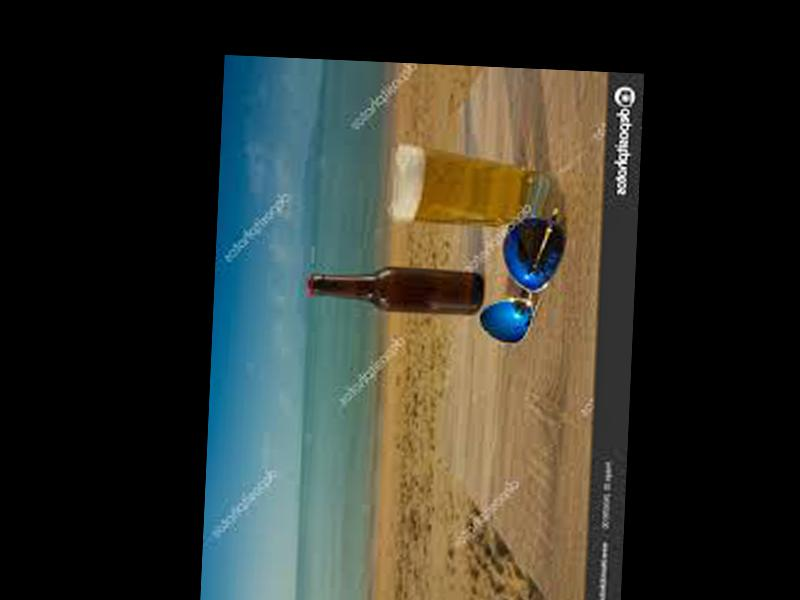Beer: (305, 263, 482, 316)
